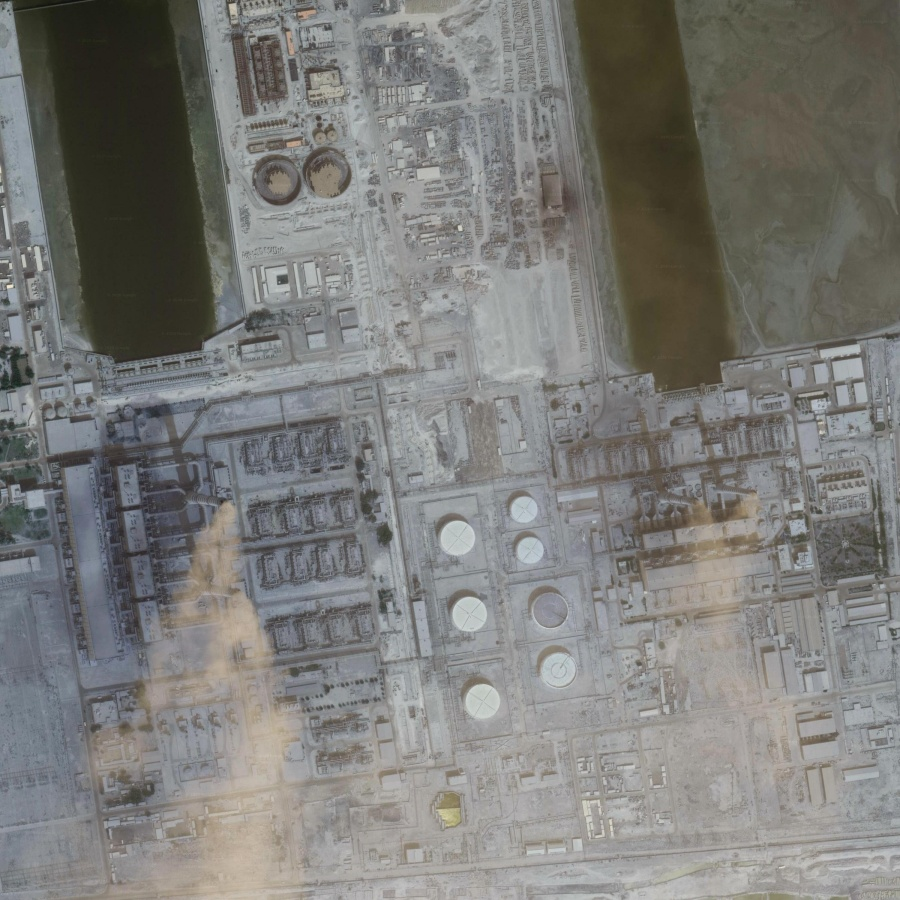PowerPlant: (63, 356, 593, 832)
